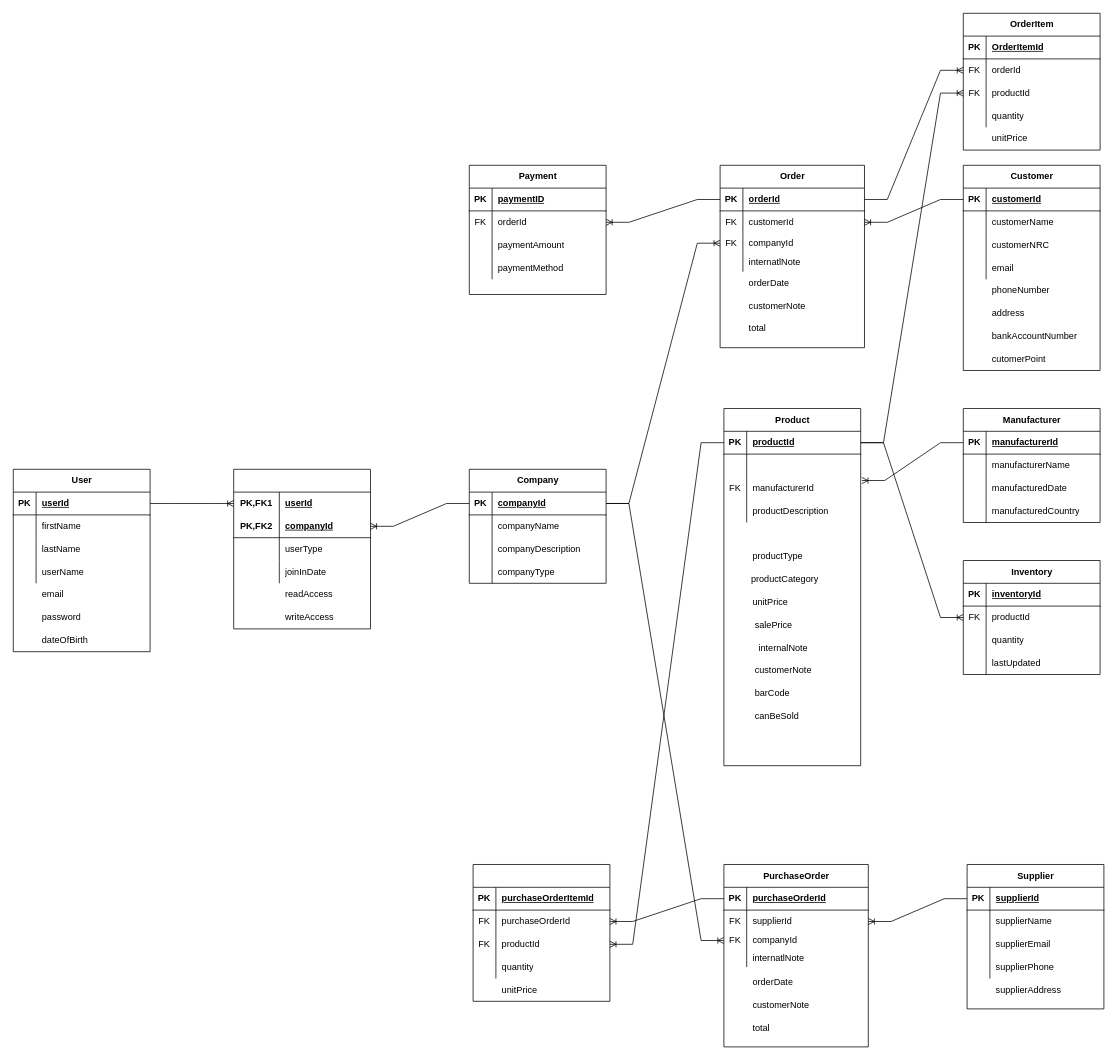
Image size: 1117x1060. Some labels were removed from this diagram. The shapes that lost their labels are listed below. From the top down, each one's box as (x1, y1, x2, y2) in pixels, then its label:
(233, 469, 370, 629): UserTeam
(472, 864, 610, 1001): PurchaseOrdereItem
